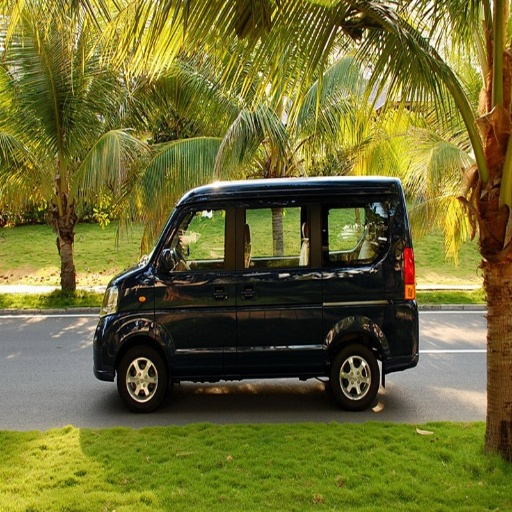back_glass: (326, 63, 376, 101)
trunk: (329, 296, 392, 354)
